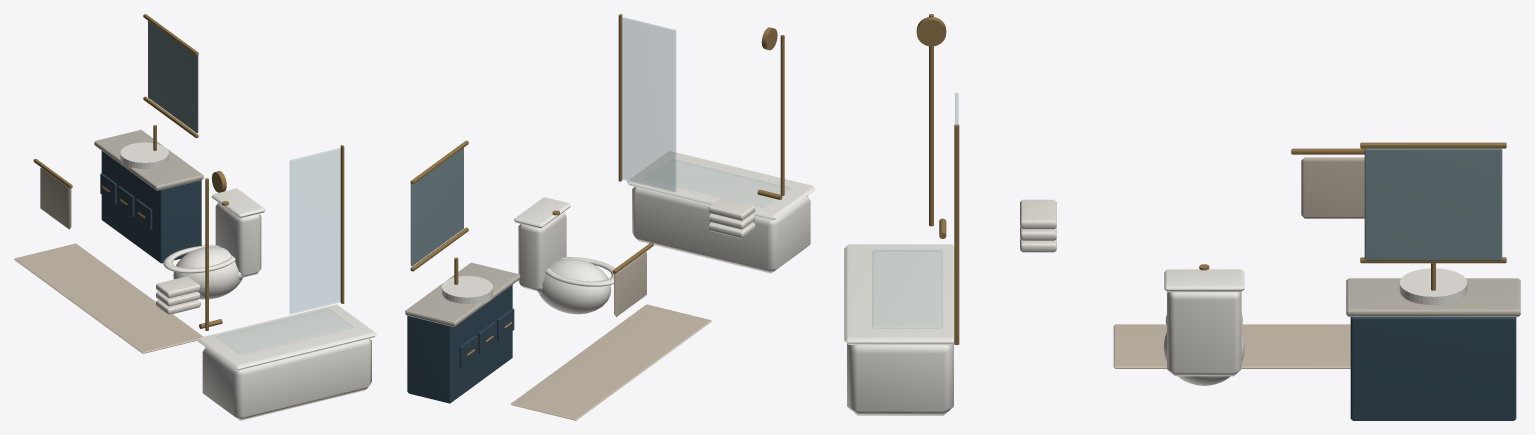
The model's file is bathroom-furniture-v002.glb.
3 views of the same model, side by side, from view 1: azimuth 30°, elevation 25°; view 2: azimuth 150°, elevation 25°; view 3: azimuth 270°, elevation 25° (orthographic). The views are drawn at different scales.
Parts seen in each view (by area): view 1: Export Bathroom vanity case.002; view 2: Export Bathroom vanity case.002; view 3: Export Bathroom vanity case.002.
Boxes of the visible parts, x1,y1,x2,y2 form: Export Bathroom vanity case.002: (14,14,376,420); Export Bathroom vanity case.002: (405,14,815,420); Export Bathroom vanity case.002: (844,14,1520,420).
Bounding box in the file's own units: 1.77 × 2.49 × 4.81.
